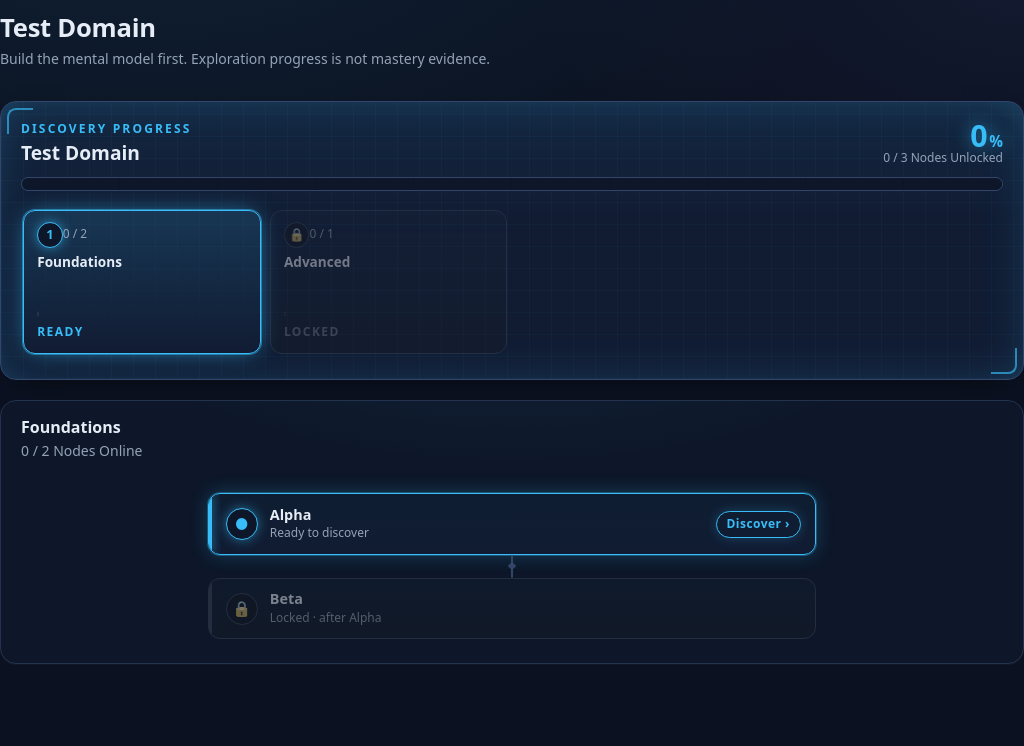
Scenario: DomainLearningPage › reveals prompts, updates node charge, and unlocks the node once
The width and height of the screenshot is (1024, 746).
Check: the text "0 / 3 Nodes Unlocked" is shown, box [883,152,1003,165]
What coordinates should you click on to do the following:
click the button with aria-label "Alpha, Ready to discover"
I would click on:
 (242, 524)
Its box is [208,493,816,555].
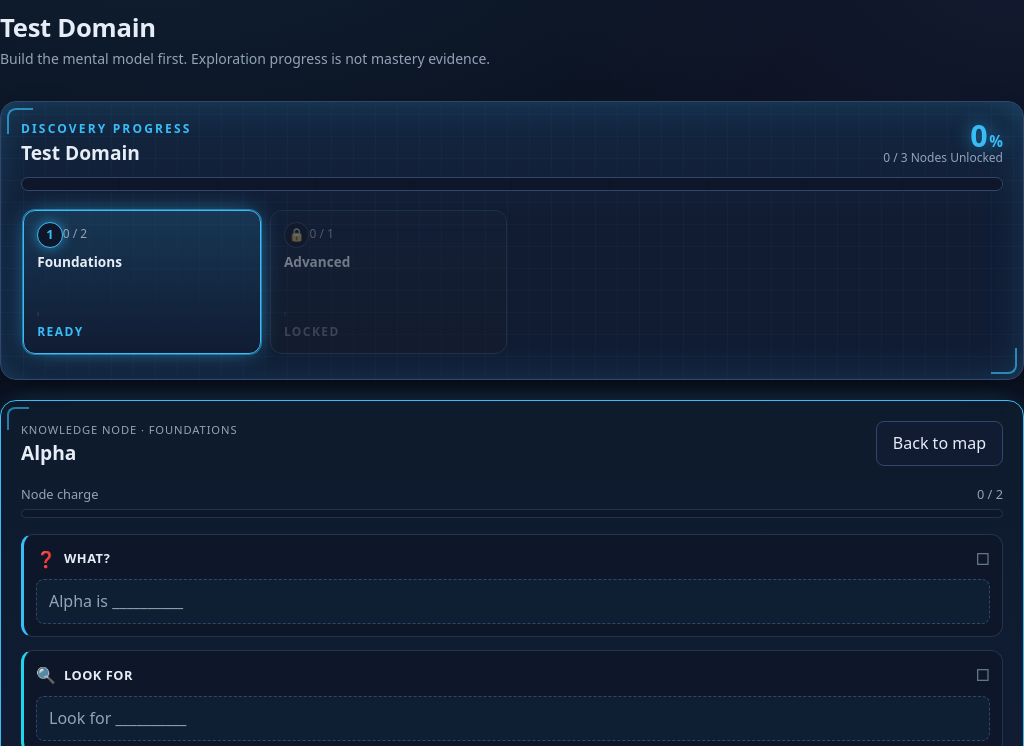
Check: the text named "0 of 2 prompts revealed" is shown, box [977,485,1003,505]
What coordinates should you click on to do the following:
click the button with aria-label "Reveal WHAT?"
I would click on:
 (116, 601)
Its box is [36,580,990,624].
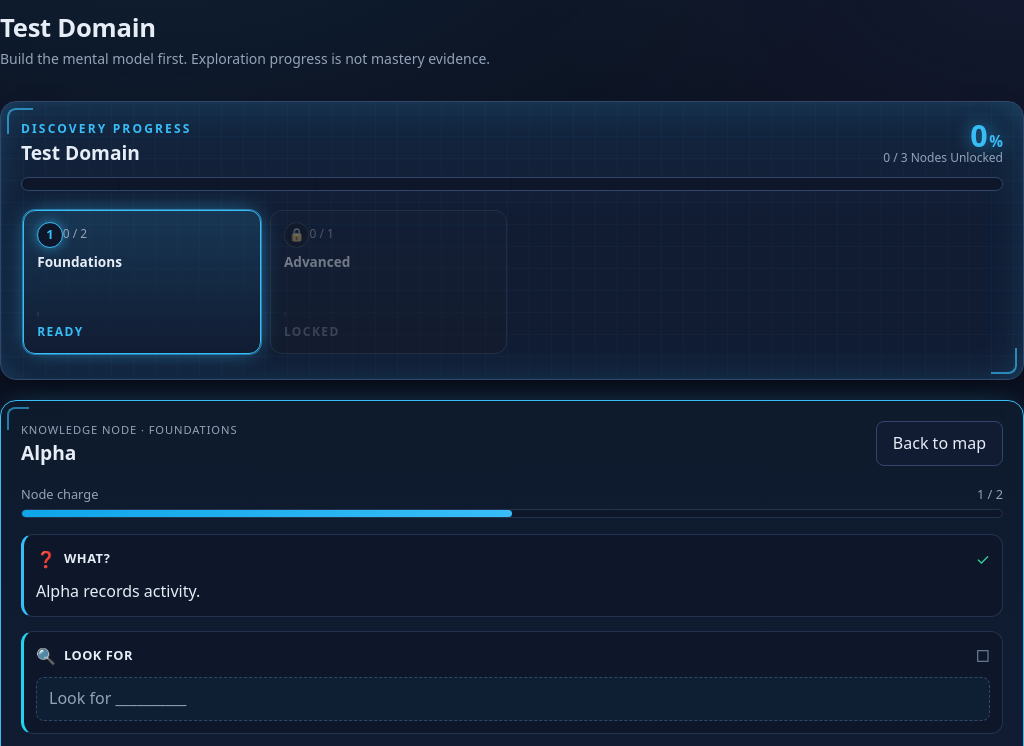
Check: the text "Alpha records activity." is shown, box [36,580,200,602]
Check: the text named "1 of 2 prompts revealed" is shown, box [977,485,1003,505]
What coordinates should you click on to do the following:
click the button "Look for __________"
I would click on:
 (118, 698)
Its box is [36,677,990,721].
(page scrolled)
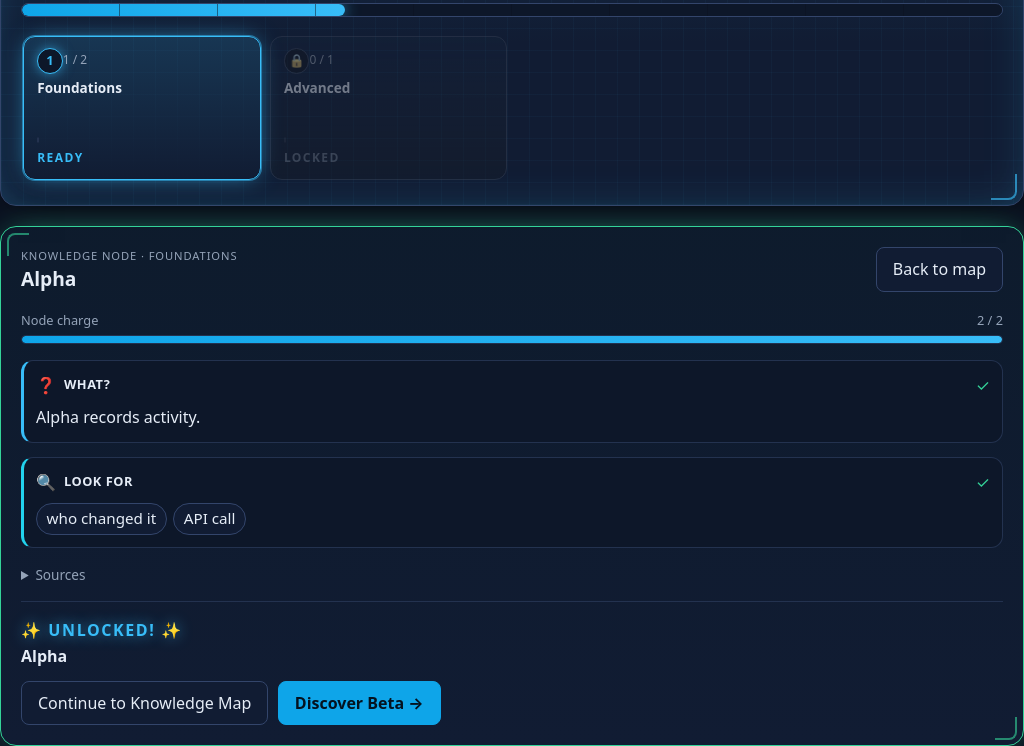
Check: the list item "who changed it" is shown, box [36,503,167,535]
Check: the text named "2 of 2 prompts revealed" is shown, box [977,311,1003,331]
Check: the text "✨ UNLOCKED! ✨" is shown, box [21,619,183,641]
